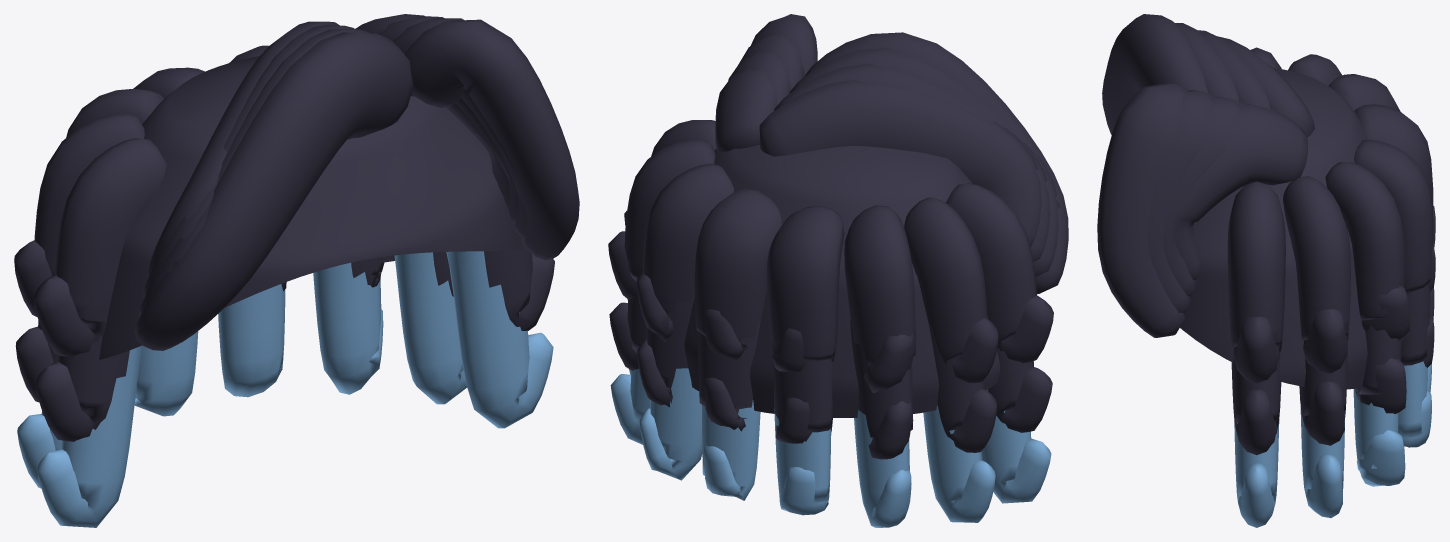
The model's file is studio_layered_short.glb.
3 renders of one model, left to right at view 1: azimuth 30°, elevation 25°; view 2: azimuth 150°, elevation 25°; view 3: azimuth 270°, elevation 25°, orthographic. The views are drawn at different scales.
Visible parts, largest first — view 1: layered; view 2: layered; view 3: layered.
Boxes of the visible parts, x1,y1,x2,y2 form: layered: (14, 14, 579, 527); layered: (608, 14, 1068, 527); layered: (1097, 14, 1435, 527).
Bounding box in the file's own units: 0.597 × 0.5309 × 0.3958.
